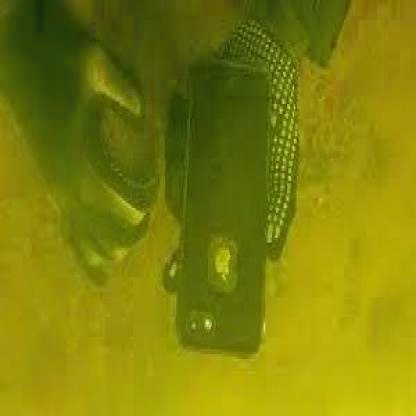cellphone: (179, 54, 272, 362)
